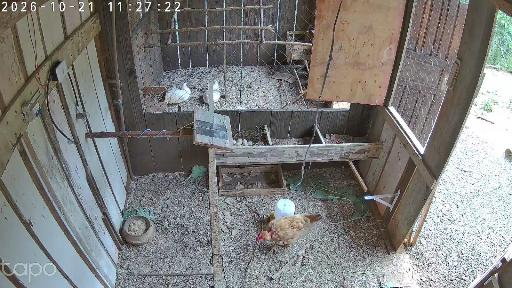galinha: (256, 211, 317, 258)
pato: (165, 83, 191, 106), (204, 83, 221, 104)
